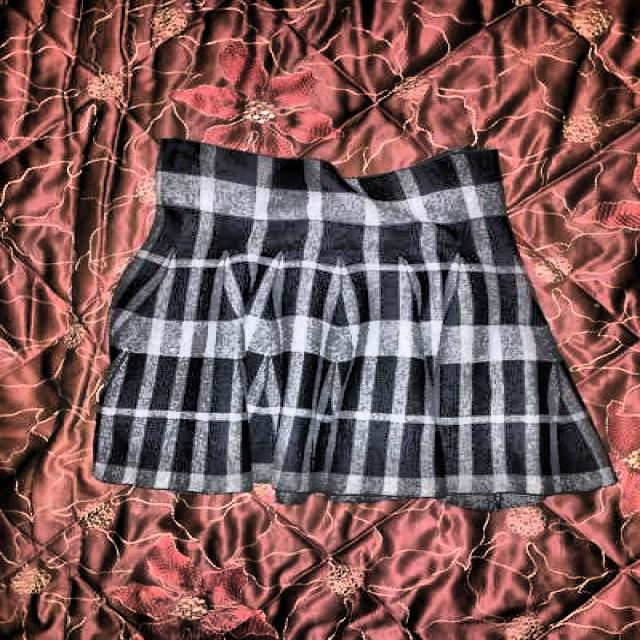clothes: (102, 134, 622, 500)
